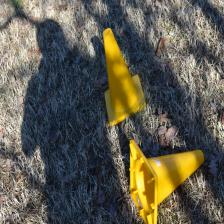cone: (129, 138, 204, 224), (102, 27, 146, 128)
